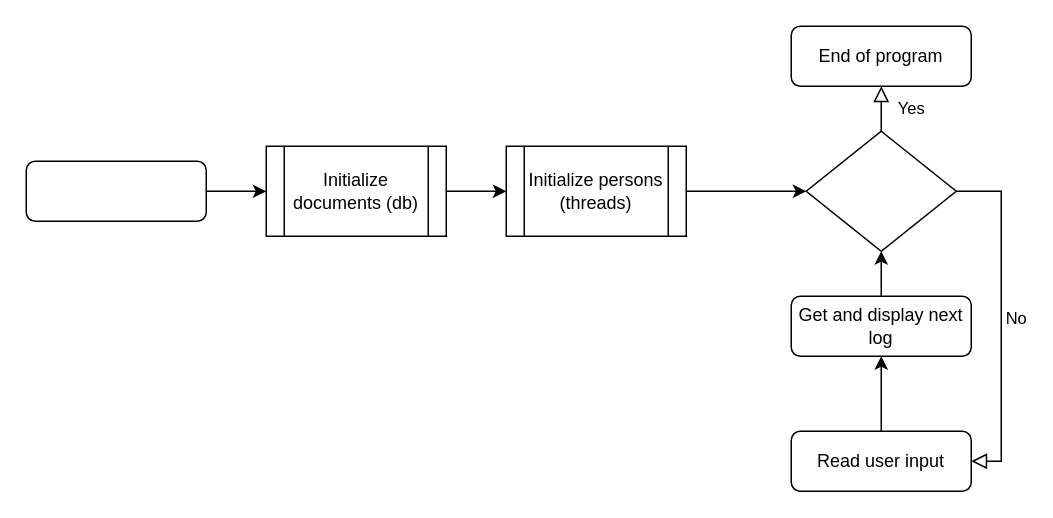
Image size: 1053x518. Some labels were removed from this diagram. Here are the shapes that lost their labels. From the top down, the centre of each, then its label:
At pixel 115 190: "Get user inputs".
At pixel 880 190: "Is program cancelled ?".
